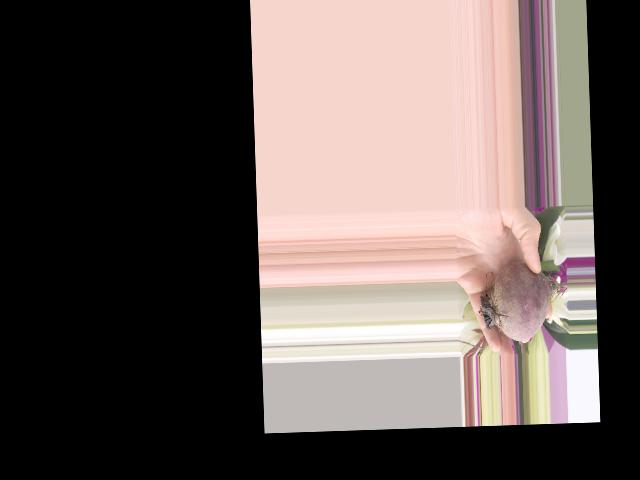beet: (475, 260, 569, 343)
